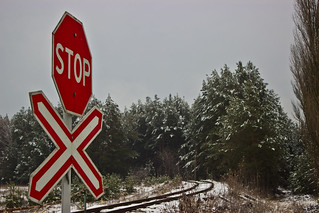StopSign: (50, 11, 92, 117)
